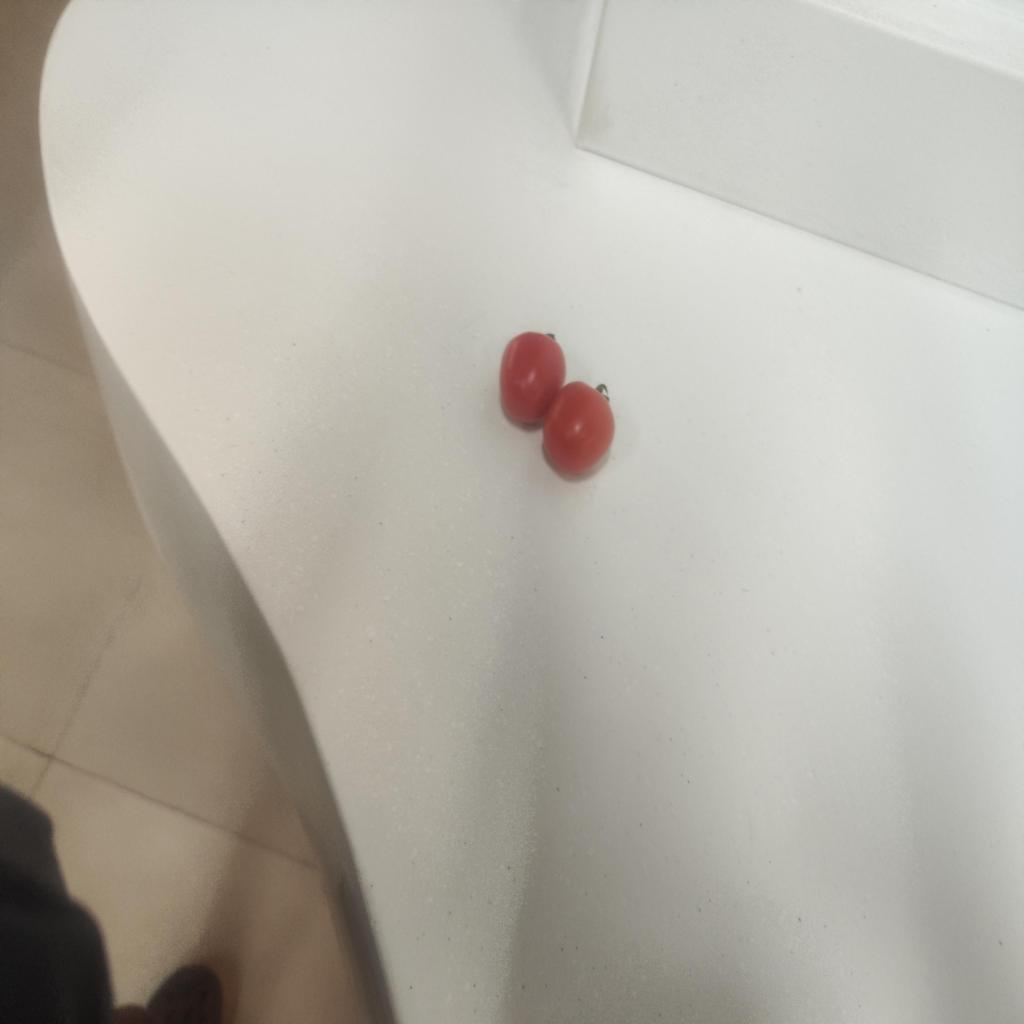tomato: (538, 370, 627, 483), (492, 329, 567, 423)
